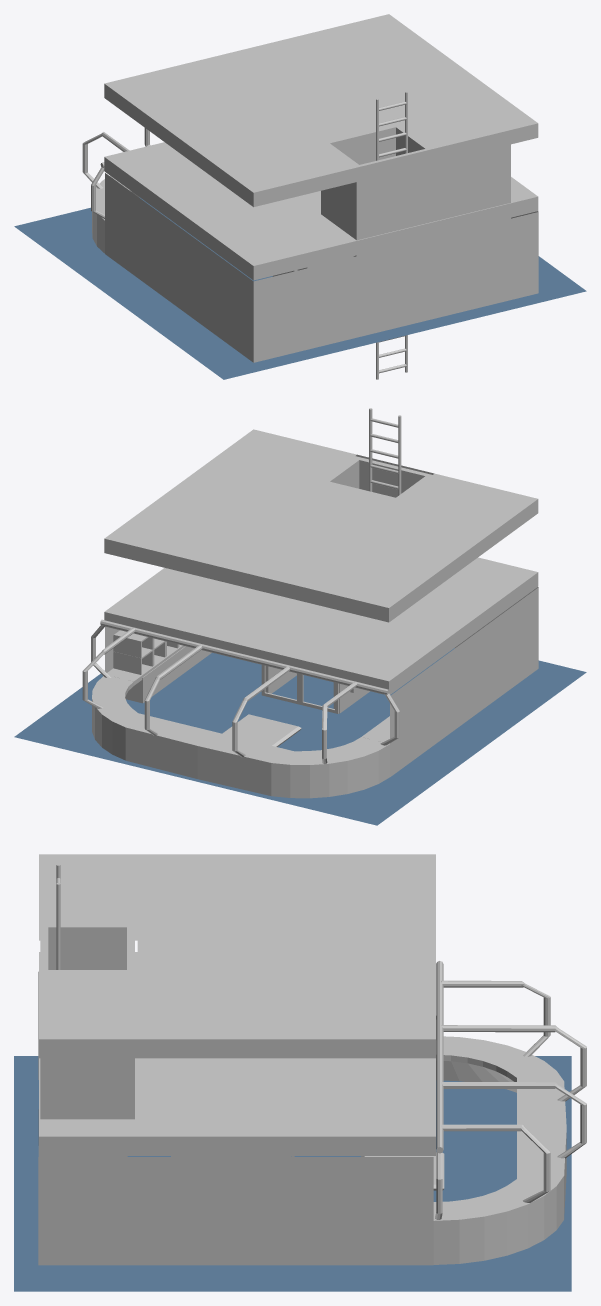
Rendered from room_001.obj.
The picture shows the model from 3 angles, top to bottom: view 1: azimuth 30°, elevation 25°; view 2: azimuth 150°, elevation 25°; view 3: azimuth 270°, elevation 25°; orthographic projection. The views are drawn at different scales.
Visible parts, largest first — view 1: Plane.001_Plane.004, Cylinder, Plane_Plane.002, Floor_Plane, Cube.010, Cube.011, Cylinder.003, Cylinder.005_Cylinder.006, Cylinder.004_Cylinder.005; view 2: Plane.001_Plane.004, Cylinder, Plane_Plane.002, Floor_Plane, Cylinder.005_Cylinder.006, Cube.010, Cylinder.007_Cylinder.010, Cube.009_Cube, Cube_Cube.003, Cube.006_Cube.000, Cube.002, Cube.008 (+4 smaller); view 3: Plane.001_Plane.004, Cylinder, Plane_Plane.002, Floor_Plane, Cube.011, Cylinder.005_Cylinder.006, Cube.010, Cylinder.007_Cylinder.010.
Boxes of the visible parts, x1=… form: Plane.001_Plane.004: x1=104, y1=14, x2=538, y2=207; Cylinder: x1=92, y1=173, x2=538, y2=362; Plane_Plane.002: x1=104, y1=142, x2=538, y2=280; Floor_Plane: x1=14, y1=197, x2=586, y2=379; Cube.010: x1=321, y1=123, x2=434, y2=256; Cube.011: x1=399, y1=123, x2=510, y2=237; Cylinder.003: x1=379, y1=101, x2=406, y2=373; Cylinder.005_Cylinder.006: x1=82, y1=128, x2=150, y2=188; Cylinder.004_Cylinder.005: x1=376, y1=91, x2=407, y2=379; Plane.001_Plane.004: x1=104, y1=429, x2=538, y2=622; Cylinder: x1=92, y1=587, x2=538, y2=798; Plane_Plane.002: x1=104, y1=557, x2=538, y2=694; Floor_Plane: x1=14, y1=648, x2=586, y2=825; Cylinder.005_Cylinder.006: x1=82, y1=627, x2=357, y2=763; Cube.010: x1=322, y1=456, x2=432, y2=500; Cylinder.007_Cylinder.010: x1=100, y1=619, x2=389, y2=694; Cube.009_Cube: x1=125, y1=646, x2=211, y2=703; Cube_Cube.003: x1=222, y1=714, x2=301, y2=746; Cube.006_Cube.000: x1=113, y1=638, x2=179, y2=674; Cube.002: x1=265, y1=666, x2=369, y2=713; Cube.008: x1=261, y1=665, x2=338, y2=713; Plane.001_Plane.004: x1=39, y1=854, x2=435, y2=1058; Cylinder: x1=38, y1=971, x2=566, y2=1265; Plane_Plane.002: x1=39, y1=952, x2=435, y2=1155; Floor_Plane: x1=14, y1=1056, x2=571, y2=1291; Cube.011: x1=40, y1=1058, x2=134, y2=1119; Cylinder.005_Cylinder.006: x1=441, y1=980, x2=586, y2=1202; Cube.010: x1=40, y1=923, x2=134, y2=971; Cylinder.007_Cylinder.010: x1=436, y1=961, x2=443, y2=1153.
Bounding box in the file's own units: 9.38 × 6.91 × 9.64.
